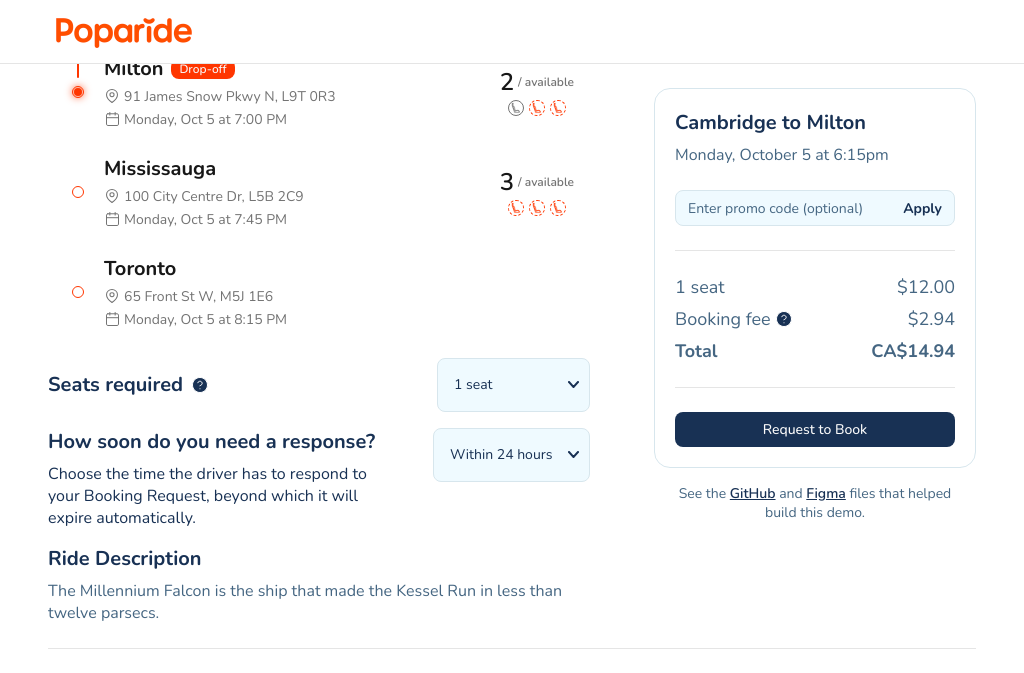
Test case: caps seats at the fullest leg and keeps the count valid
The width and height of the screenshot is (1024, 673).
(page scrolled)
Select "3 seats" in the dropdown labelled "Seats required" at [514, 385], box [437,358,590,412]
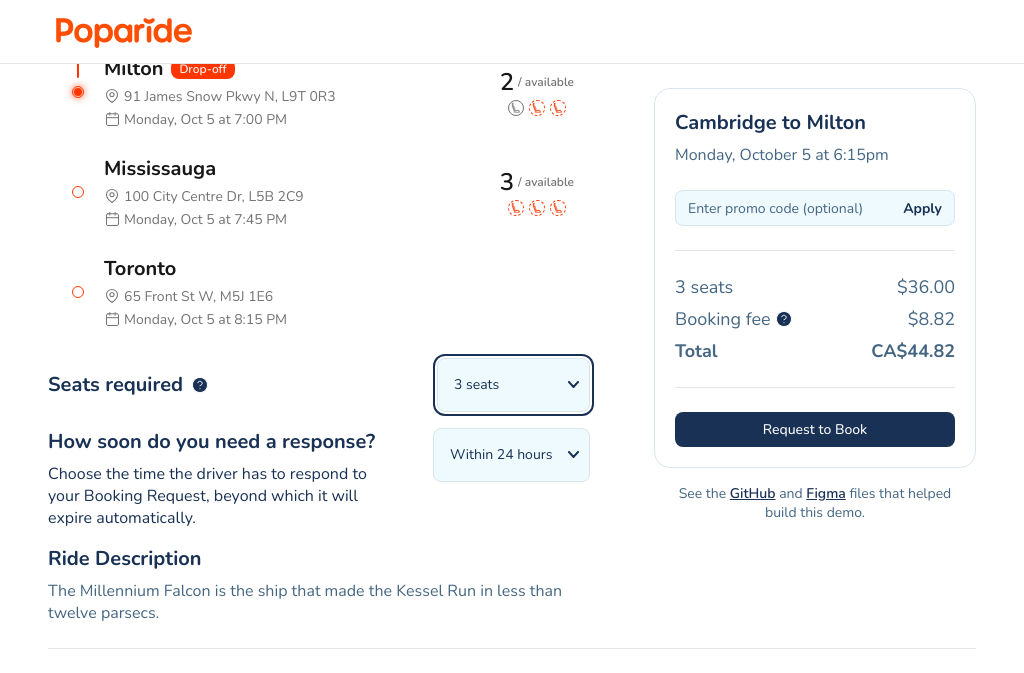
Result: the text "3 seats" is shown at [675,275,733,299]
Click the button "Toronto 65 Front St W, M5J 1E6 Monday, Oct 5 at 8:15 PM".
click(140, 268)  # box [48,242,590,342]
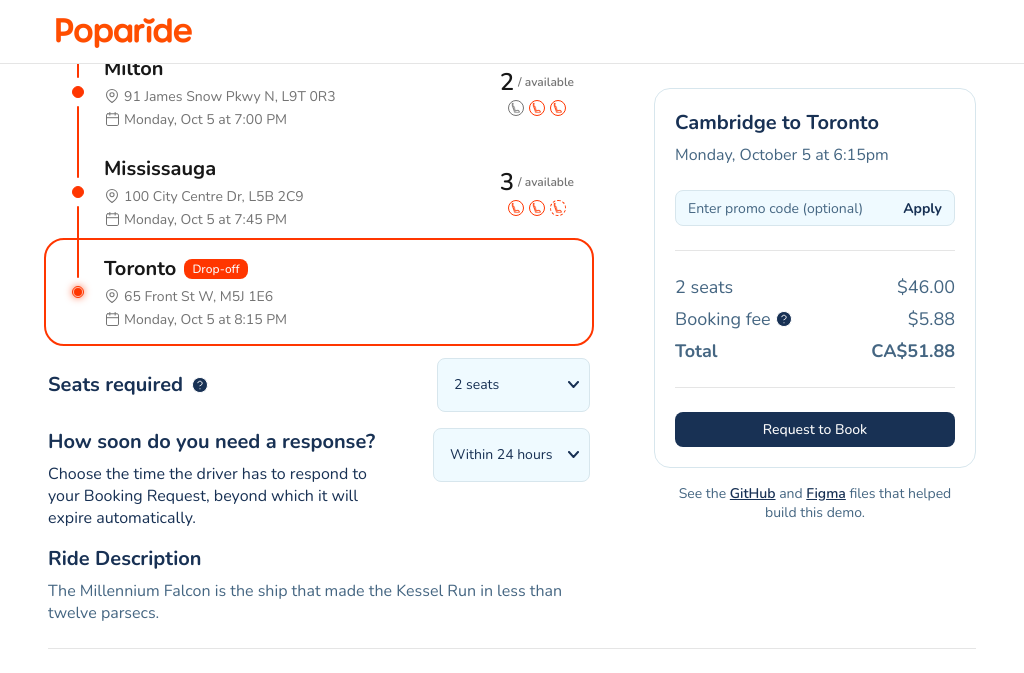
Result: the text "2 seats" is shown at [675,275,733,299]
